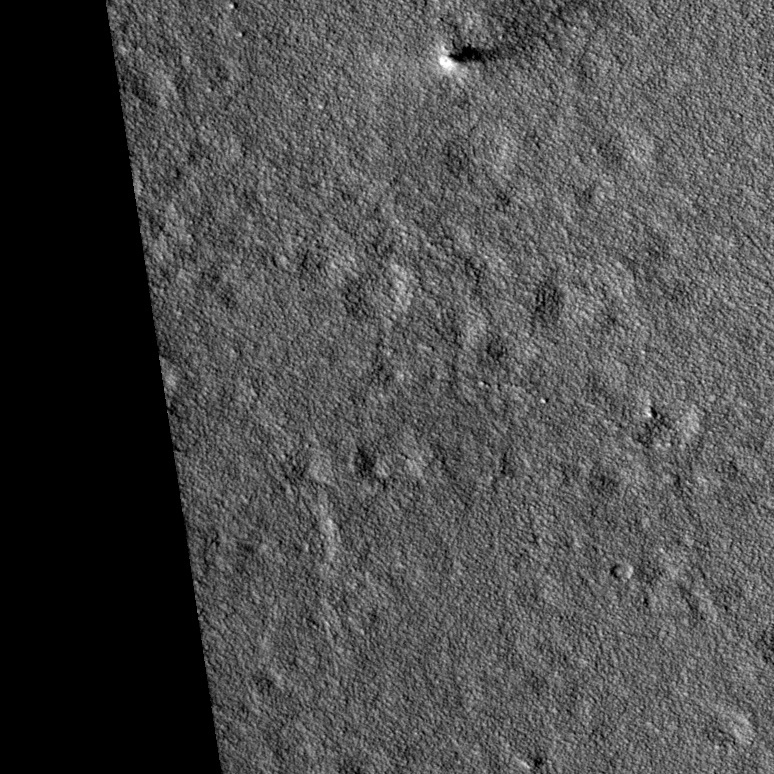dust_devil: (436, 39, 517, 73)
